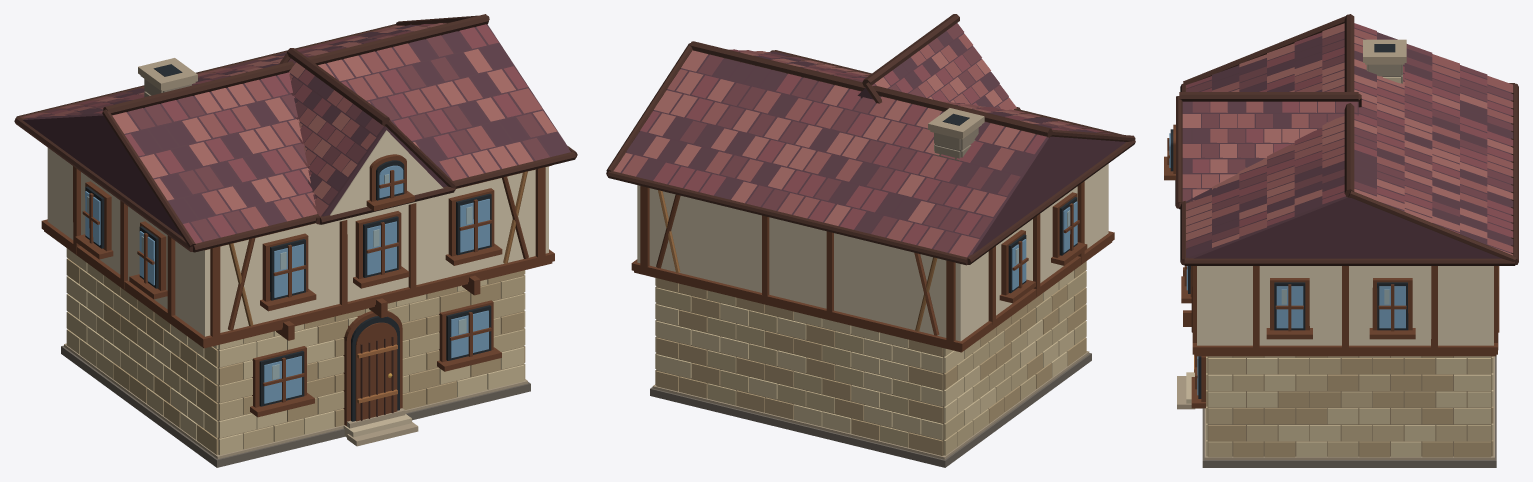
The model's file is moradia-nivel-3.glb.
3 views of the same model, side by side, from view 1: azimuth 30°, elevation 25°; view 2: azimuth 150°, elevation 25°; view 3: azimuth 270°, elevation 25° (orthographic). The views are drawn at different scales.
Visible parts, largest first — view 1: Moradia 03 #70432c, Moradia 03 #593b44, Moradia 03 #e6d7ba, Moradia 03 #4c3028, Moradia 03 #c8b58f, Moradia 03 #baa37d, Moradia 03 #9e645f, Moradia 03 #d5c39d, Moradia 03 #8f5655, Moradia 03 #824a50, Moradia 03 #70444a, Moradia 03 #567185 (+7 smaller); view 2: Moradia 03 #e6d7ba, Moradia 03 #593b44, Moradia 03 #baa37d, Moradia 03 #d5c39d, Moradia 03 #c8b58f, Moradia 03 #70432c, Moradia 03 #4c3028, Moradia 03 #824a50, Moradia 03 #9e645f, Moradia 03 #8f5655, Moradia 03 #70444a, Moradia 03 #746c62 (+6 smaller); view 3: Moradia 03 #593b44, Moradia 03 #e6d7ba, Moradia 03 #9e645f, Moradia 03 #baa37d, Moradia 03 #4c3028, Moradia 03 #70432c, Moradia 03 #70444a, Moradia 03 #8f5655, Moradia 03 #d5c39d, Moradia 03 #824a50, Moradia 03 #c8b58f, Moradia 03 #9d8a6d (+5 smaller).
Part boxes in pixels (x1,y1,x2,y2): Moradia 03 #70432c: (41,154,554,426); Moradia 03 #593b44: (23,24,570,241); Moradia 03 #e6d7ba: (47,130,548,336); Moradia 03 #4c3028: (14,14,577,420); Moradia 03 #c8b58f: (66,263,525,449); Moradia 03 #baa37d: (66,258,525,454); Moradia 03 #9e645f: (96,23,557,210); Moradia 03 #d5c39d: (66,248,525,455); Moradia 03 #8f5655: (22,27,542,229); Moradia 03 #824a50: (47,24,527,243); Moradia 03 #70444a: (35,34,549,241); Moradia 03 #567185: (85,165,489,403); Moradia 03 #e6d7ba: (637,164,1108,341); Moradia 03 #593b44: (620,31,1125,257); Moradia 03 #baa37d: (655,261,1086,455); Moradia 03 #d5c39d: (655,270,1074,439); Moradia 03 #c8b58f: (655,271,1086,455); Moradia 03 #70432c: (631,181,1114,352); Moradia 03 #4c3028: (606,14,1135,265); Moradia 03 #824a50: (640,49,1103,244); Moradia 03 #9e645f: (613,50,1066,225); Moradia 03 #8f5655: (622,33,1082,257); Moradia 03 #70444a: (680,23,1113,252); Moradia 03 #746c62: (650,139,1091,467); Moradia 03 #593b44: (1182,27,1513,258); Moradia 03 #e6d7ba: (1197,266,1493,345); Moradia 03 #9e645f: (1182,23,1513,255); Moradia 03 #baa37d: (1206,356,1493,457); Moradia 03 #4c3028: (1175,14,1518,265); Moradia 03 #70432c: (1164,124,1499,408); Moradia 03 #70444a: (1182,32,1513,248); Moradia 03 #8f5655: (1182,28,1513,252); Moradia 03 #d5c39d: (1206,356,1493,457); Moradia 03 #824a50: (1186,23,1513,237); Moradia 03 #c8b58f: (1206,356,1493,457); Moradia 03 #9d8a6d: (1207,356,1491,456).
Size of the model in its own units: 8.06 by 6.38 by 6.77.
